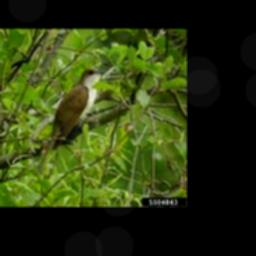Cuckoo: (38, 69, 104, 174)
